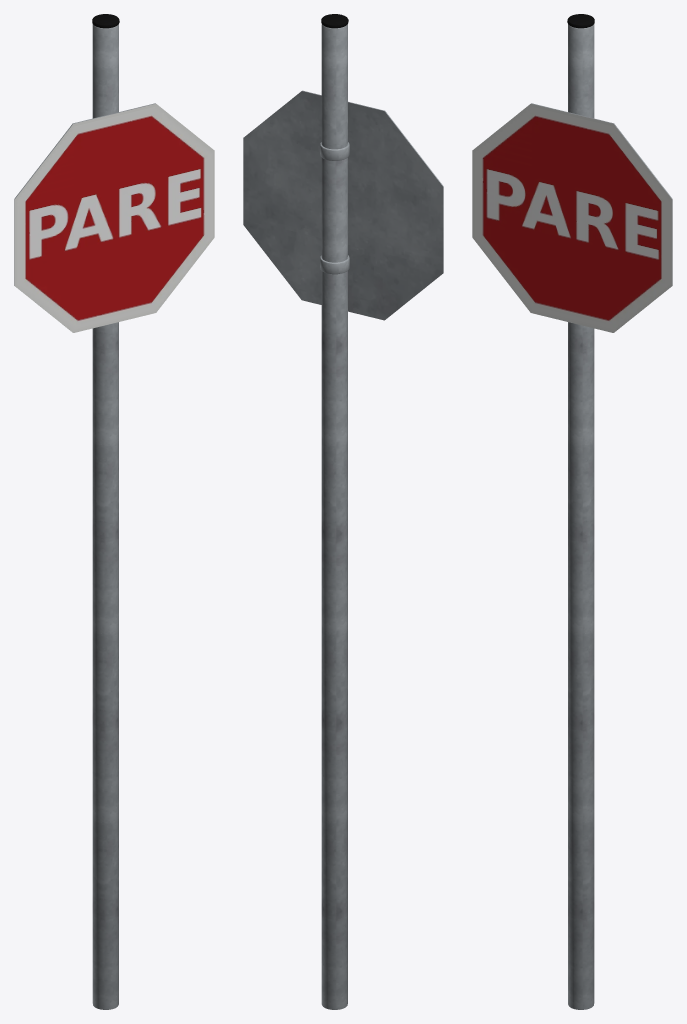
Rendered from PAV-SIN-001.glb.
The picture shows the model from 3 angles, left to right: view 1: azimuth 30°, elevation 25°; view 2: azimuth 150°, elevation 25°; view 3: azimuth 330°, elevation 25°; orthographic projection.
Visible parts, largest first — view 1: PAV-SIN-001_placa, PAV-SIN-001_poste; view 2: PAV-SIN-001_placa, PAV-SIN-001_poste; view 3: PAV-SIN-001_placa, PAV-SIN-001_poste.
Boxes of the visible parts, bbox=[...] form: PAV-SIN-001_placa: bbox=[14, 103, 214, 332]; PAV-SIN-001_poste: bbox=[92, 24, 118, 1009]; PAV-SIN-001_placa: bbox=[243, 90, 443, 320]; PAV-SIN-001_poste: bbox=[321, 24, 347, 1009]; PAV-SIN-001_placa: bbox=[472, 103, 672, 332]; PAV-SIN-001_poste: bbox=[568, 24, 594, 1009].
Bounding box in the file's own units: 0.5543 × 2.61 × 0.079.
3 materials, 3 textured.
